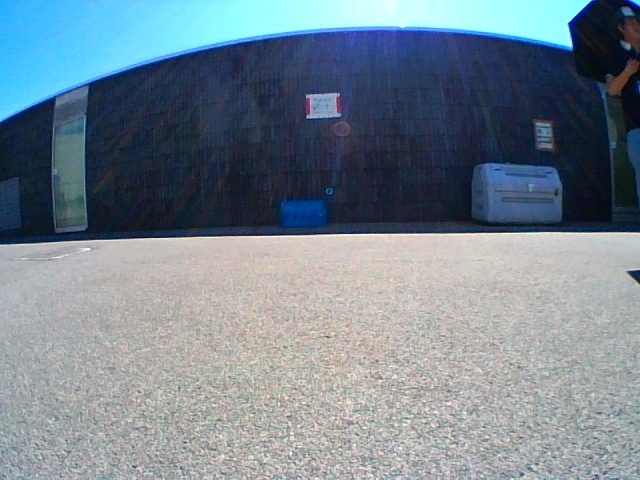blue_box: (281, 200, 323, 226)
